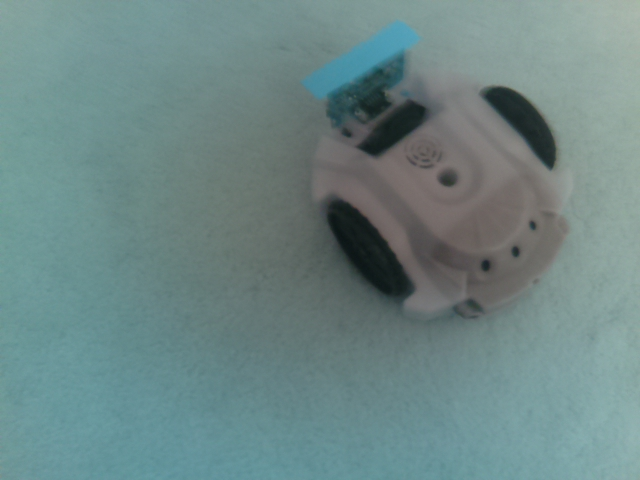board: (304, 17, 418, 106)
chassis: (306, 14, 575, 329)
